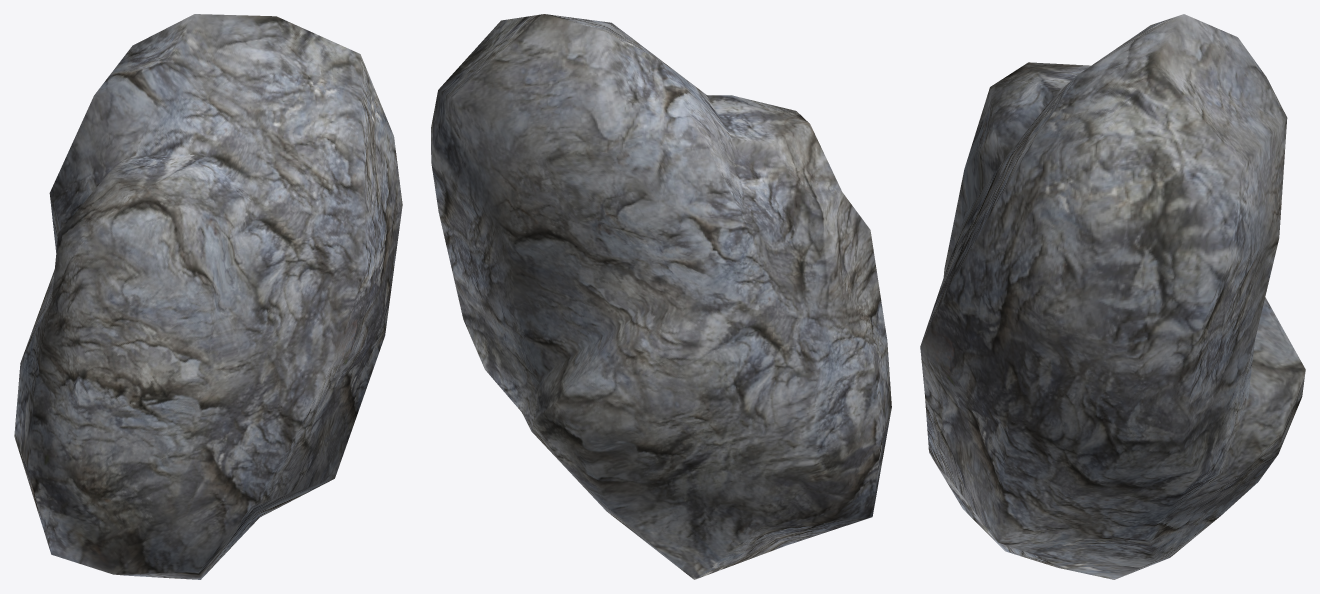
File: Rock01.FBX
3 views of the same model, side by side, from view 1: azimuth 30°, elevation 25°; view 2: azimuth 150°, elevation 25°; view 3: azimuth 270°, elevation 25° (orthographic). The views are drawn at different scales.
Parts seen in each view (by area): view 1: default; view 2: default; view 3: default.
Boxes of the visible parts, x1,y1,x2,y2 form: default: (14, 14, 402, 579); default: (431, 14, 891, 579); default: (920, 14, 1305, 579).
Bounding box in the file's own units: 71.75 × 88.81 × 52.24.
Materials: 1 (1 with a texture image).
